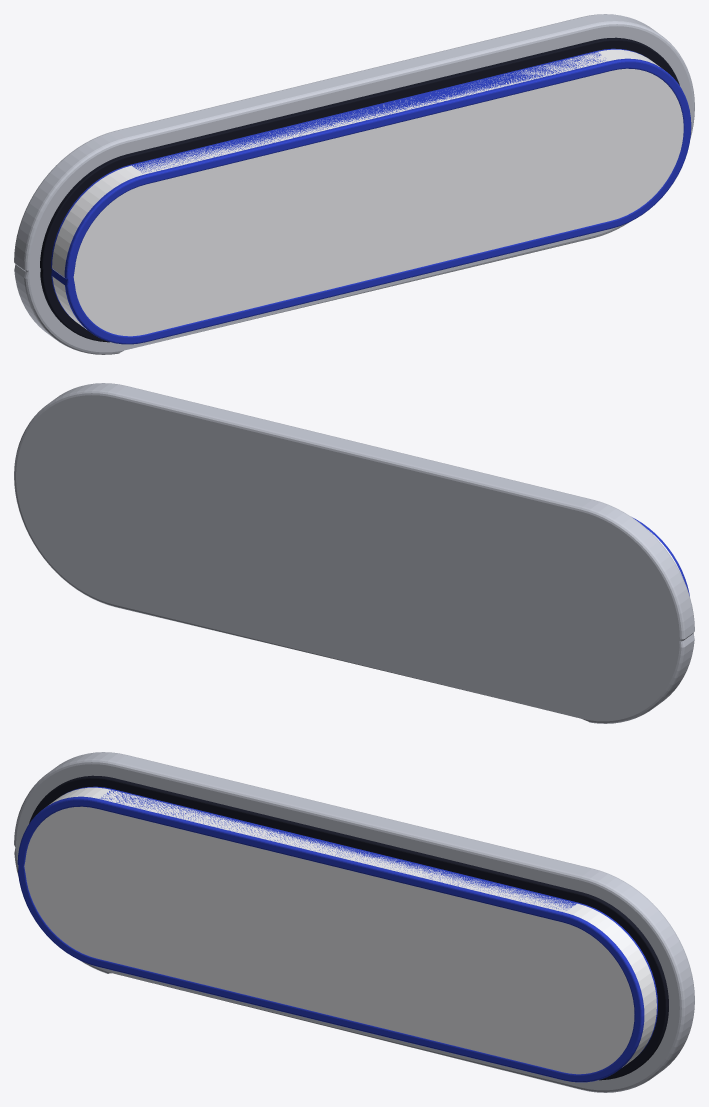
The model's file is rs_button_secondary.glb.
3 renders of one model, top to bottom at view 1: azimuth 30°, elevation 25°; view 2: azimuth 150°, elevation 25°; view 3: azimuth 330°, elevation 25°, orthographic.
Visible parts, largest first — view 1: CapBody, Tray, CapRim, Well; view 2: Tray; view 3: CapBody, Tray, CapRim, Well.
Boxes of the visible parts, <box> form: CapBody: <box>52,49,683,336</box>; Tray: <box>14,14,694,354</box>; CapRim: <box>51,48,691,344</box>; Well: <box>40,37,679,342</box>; Tray: <box>14,383,694,723</box>; CapBody: <box>24,787,656,1074</box>; Tray: <box>14,752,694,1092</box>; CapRim: <box>17,786,657,1082</box>; Well: <box>29,775,668,1080</box>.
Size of the model in its own units: 2.36 by 0.72 by 0.192.
